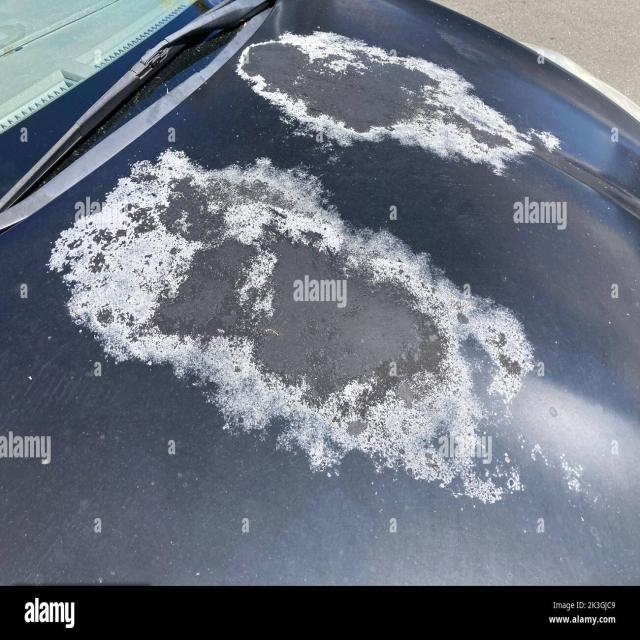scratch: (34, 22, 597, 512)
